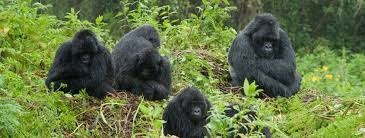gorilla: (227, 11, 305, 99), (42, 26, 114, 100), (110, 21, 162, 90), (115, 47, 173, 100), (160, 84, 215, 138)
